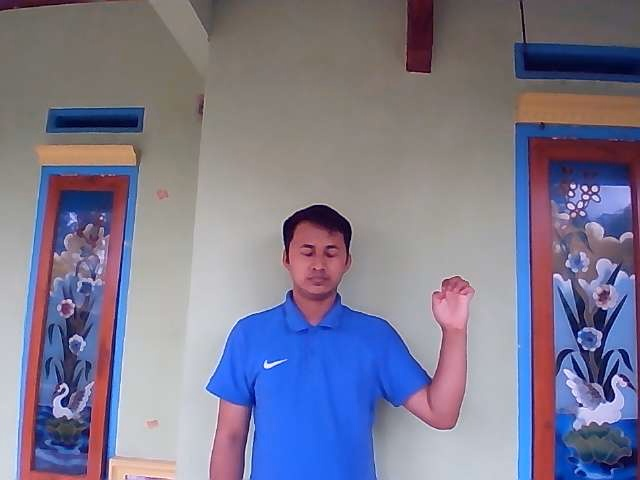E: (429, 274, 475, 331)
